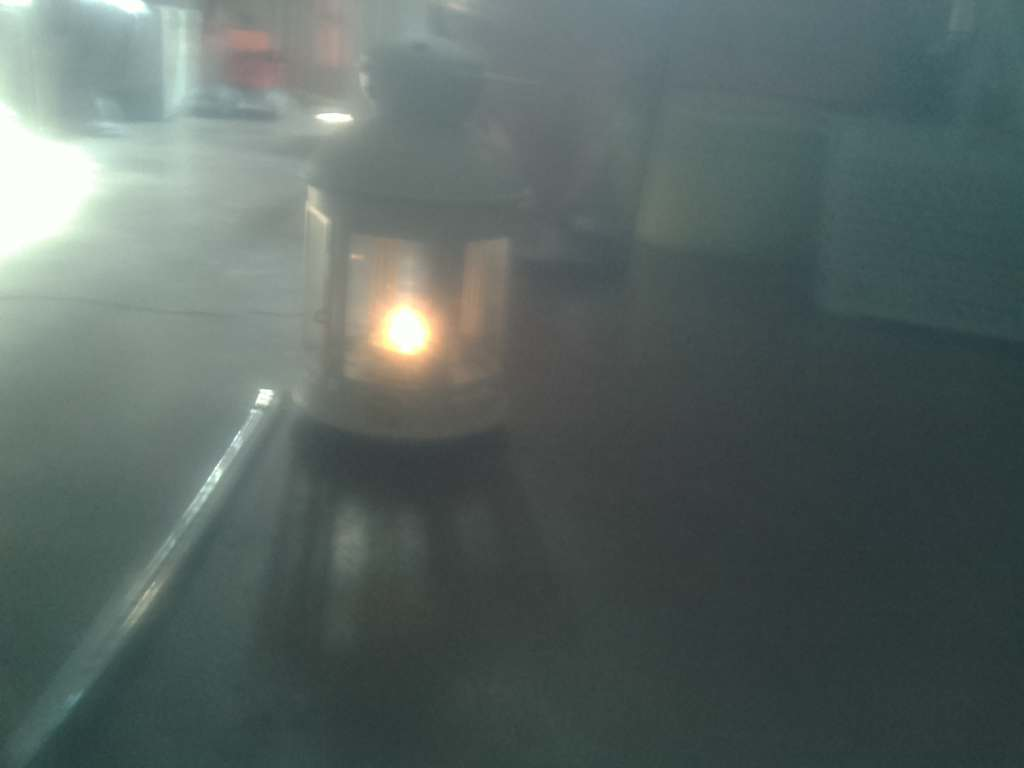fire: (350, 284, 472, 386)
